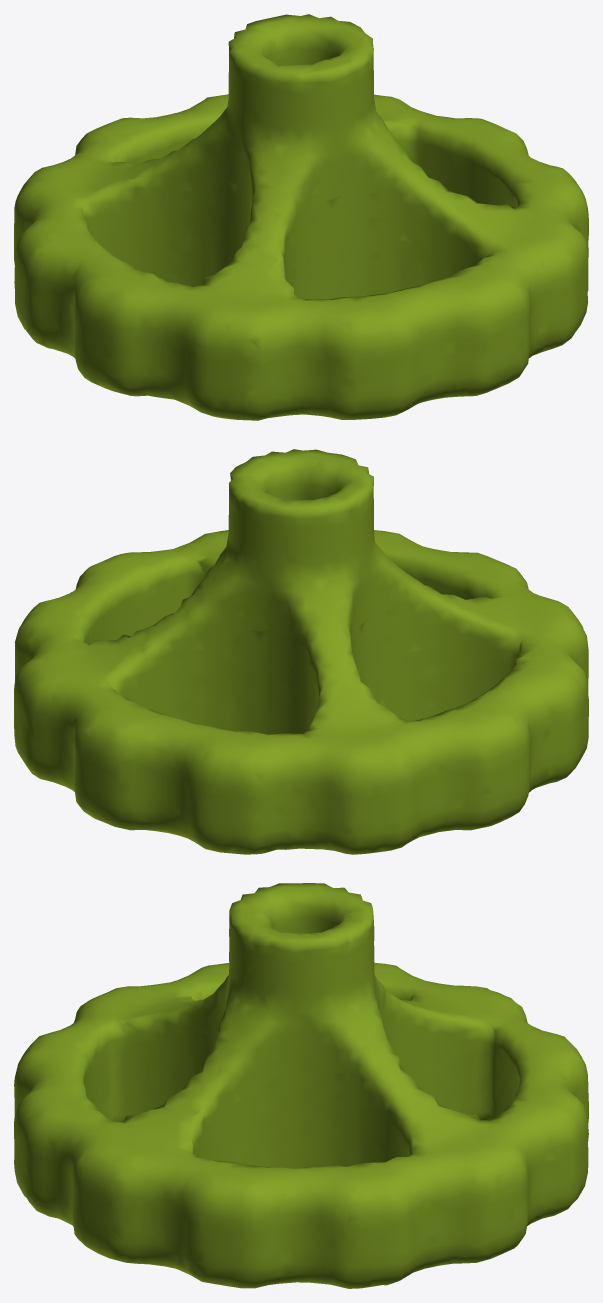
File: model_decimated.obj
3 views of the same model, one above another, from view 1: azimuth 30°, elevation 25°; view 2: azimuth 150°, elevation 25°; view 3: azimuth 270°, elevation 25° (orthographic).
Bounding box in the file's own units: 39.35 × 20.02 × 39.33.
